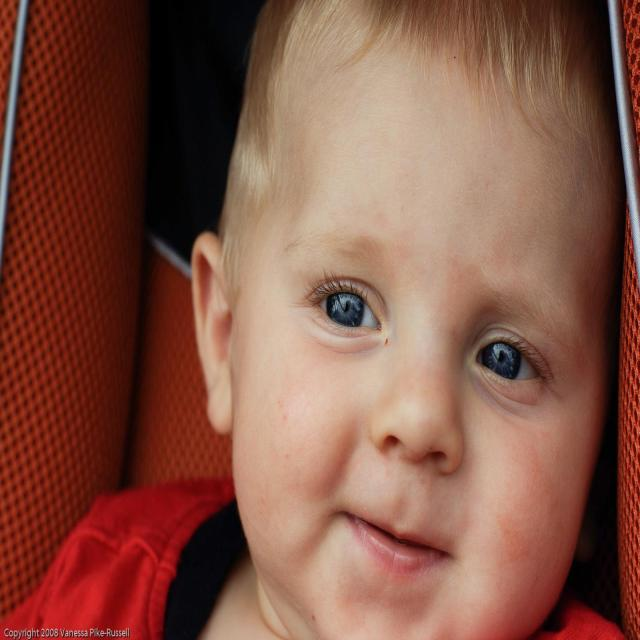no-glass: (307, 281, 548, 401)
